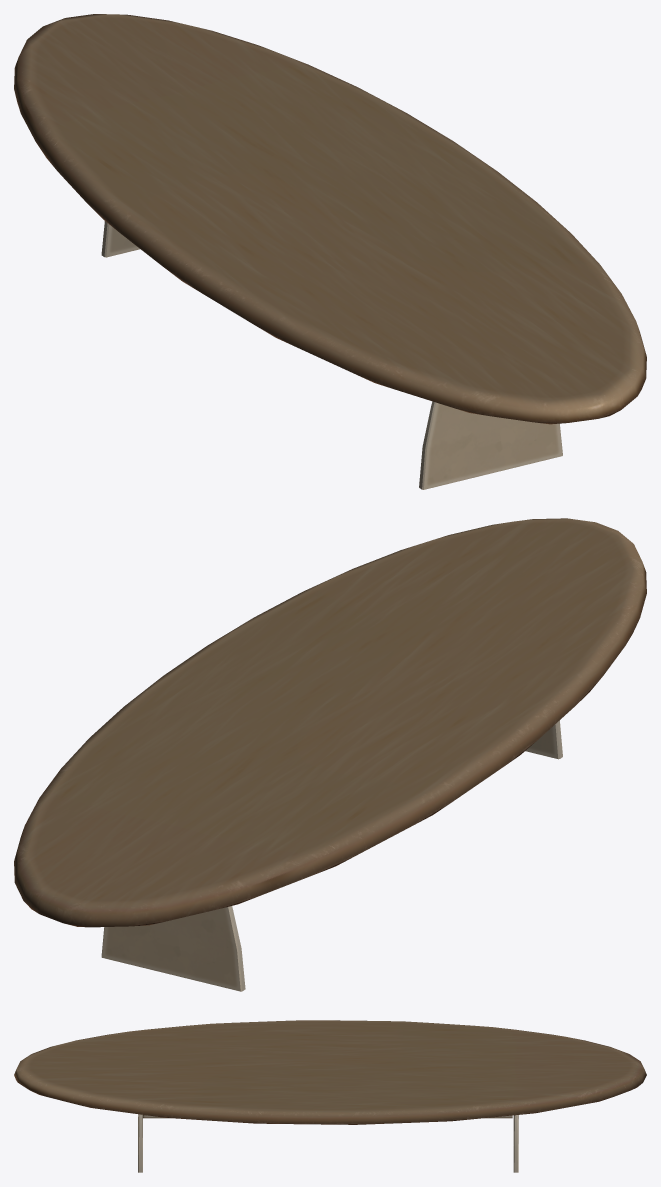
The model's file is Roundtable.fbx.
3 views of the same model, one above another, from view 1: azimuth 30°, elevation 25°; view 2: azimuth 150°, elevation 25°; view 3: azimuth 270°, elevation 25° (orthographic). The views are drawn at different scales.
Visible parts, largest first — view 1: pCube7; view 2: pCube7; view 3: pCube7.
Boxes of the visible parts, left/top/right/bottom form: pCube7: left=14, top=14, right=646, bottom=489; pCube7: left=14, top=518, right=646, bottom=991; pCube7: left=14, top=1020, right=646, bottom=1172.
Bounding box in the file's own units: 189 × 77.59 × 514.
